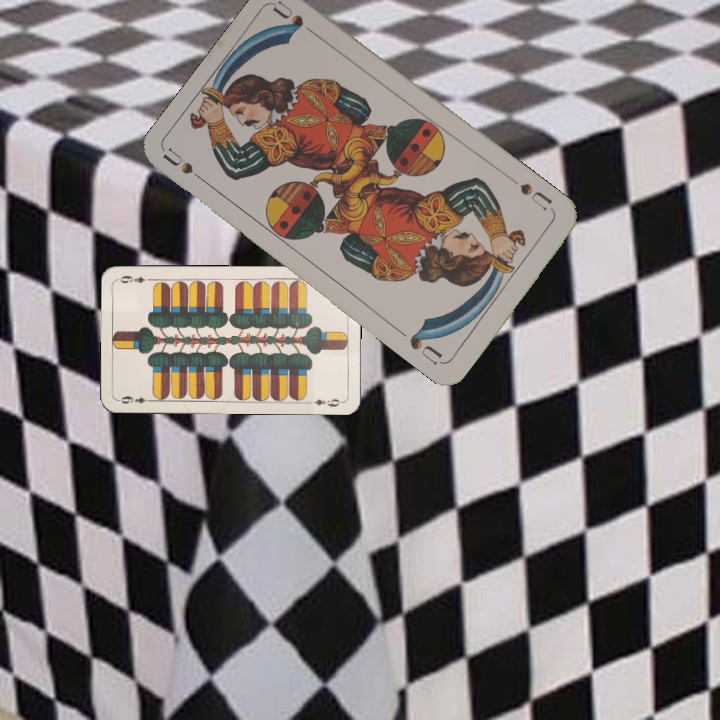E9: (117, 392, 156, 407)
SU: (160, 145, 213, 189), (515, 179, 558, 216)
